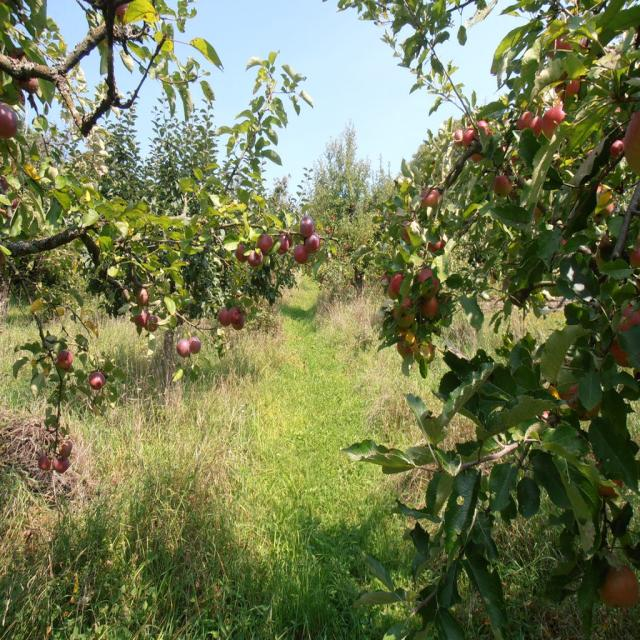Healty Apple: (453, 30, 591, 220), (380, 184, 446, 365), (236, 216, 320, 269), (596, 561, 640, 610), (558, 378, 604, 421), (610, 304, 640, 369), (594, 459, 626, 500), (625, 106, 640, 176), (0, 101, 18, 140), (596, 187, 612, 223), (630, 235, 640, 272), (176, 337, 190, 360), (58, 440, 74, 458), (88, 371, 104, 389), (608, 140, 624, 157), (51, 458, 71, 471), (136, 289, 150, 307), (134, 308, 147, 327), (59, 350, 74, 366), (232, 312, 244, 330), (37, 455, 50, 471), (230, 307, 242, 324), (117, 3, 127, 23), (190, 337, 202, 353), (218, 307, 228, 325), (148, 314, 156, 334), (560, 237, 568, 246)
